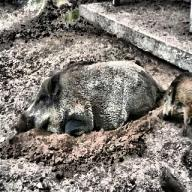boar: (14, 59, 166, 136), (160, 70, 191, 137)
